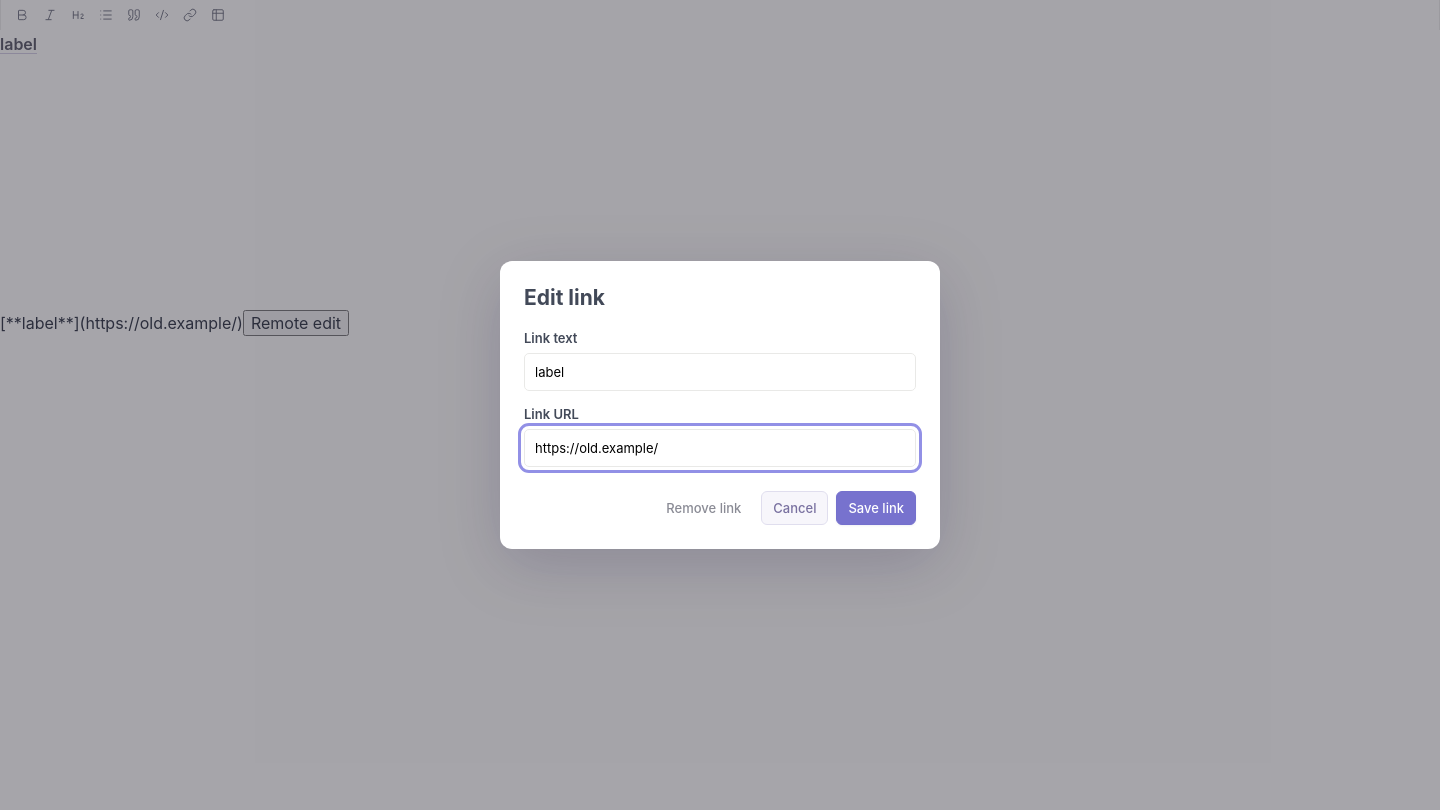
it: Visual formatting controls › edits link destinations safely, preserves formatted labels, and removes links
The image size is (1440, 810).
Earlier steps of the test are not shown.
Replace the text in the field labelled "Link URL" with "javascript:alert(1)" at (720, 448), box [524, 429, 916, 467]
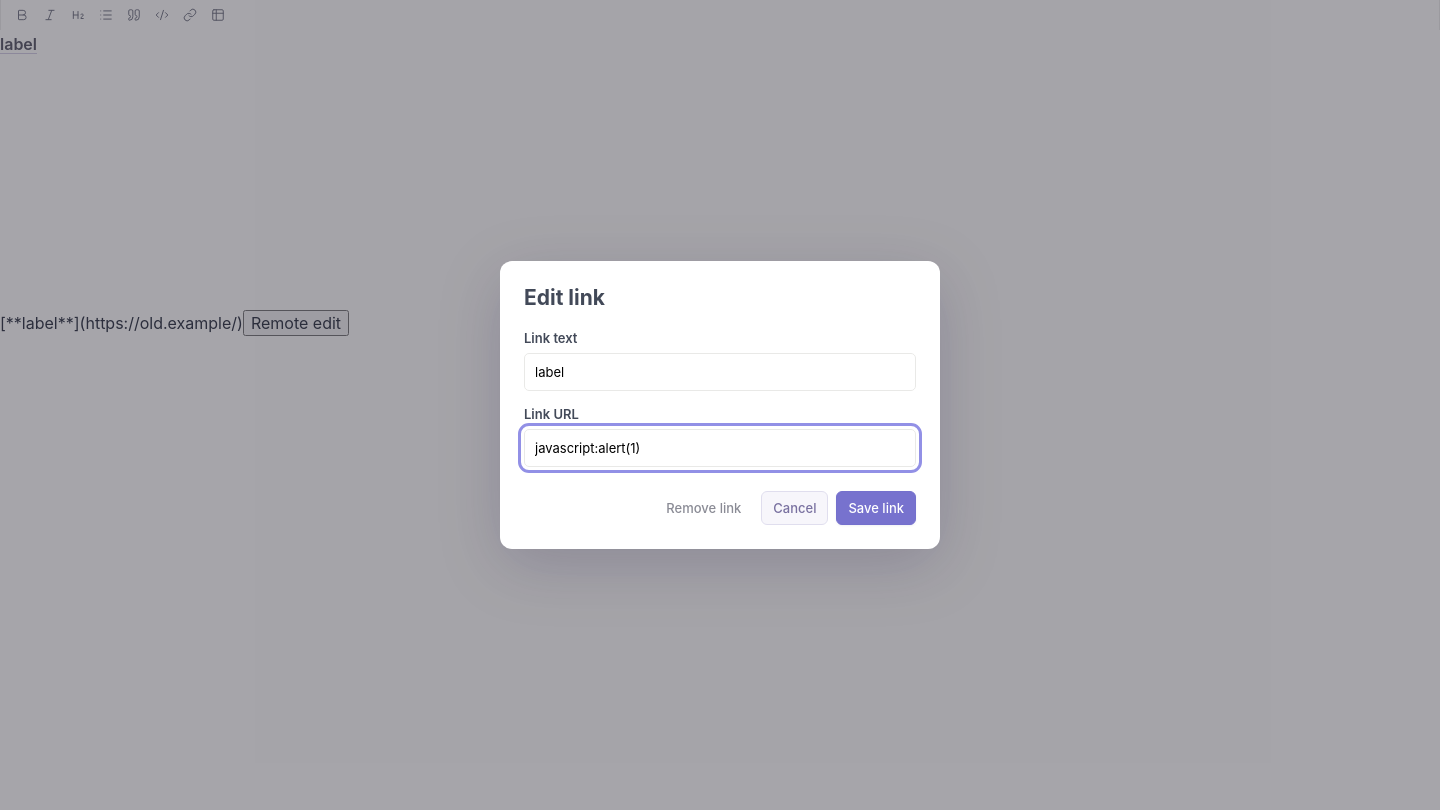
Submit the form, box [524, 330, 916, 525]
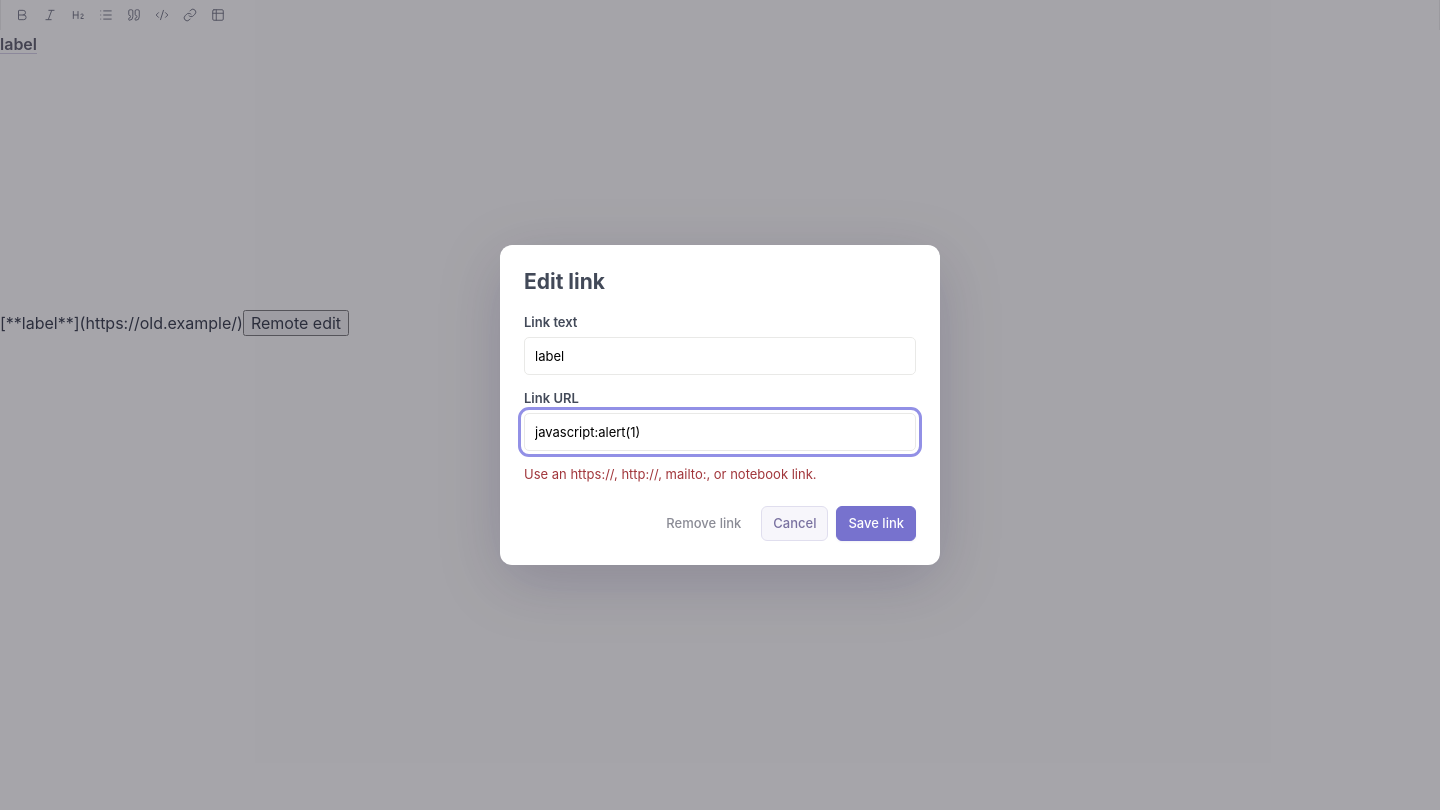
Expected: the text with test id "canonical" reads "[**label**](https://old.example/)", [0, 313, 243, 333]
Now the message shows "https://", box [524, 466, 816, 482]
Replace the text in the field labelled "Link URL" with "https://example.test/a(b)" at (720, 432), box [524, 413, 916, 451]
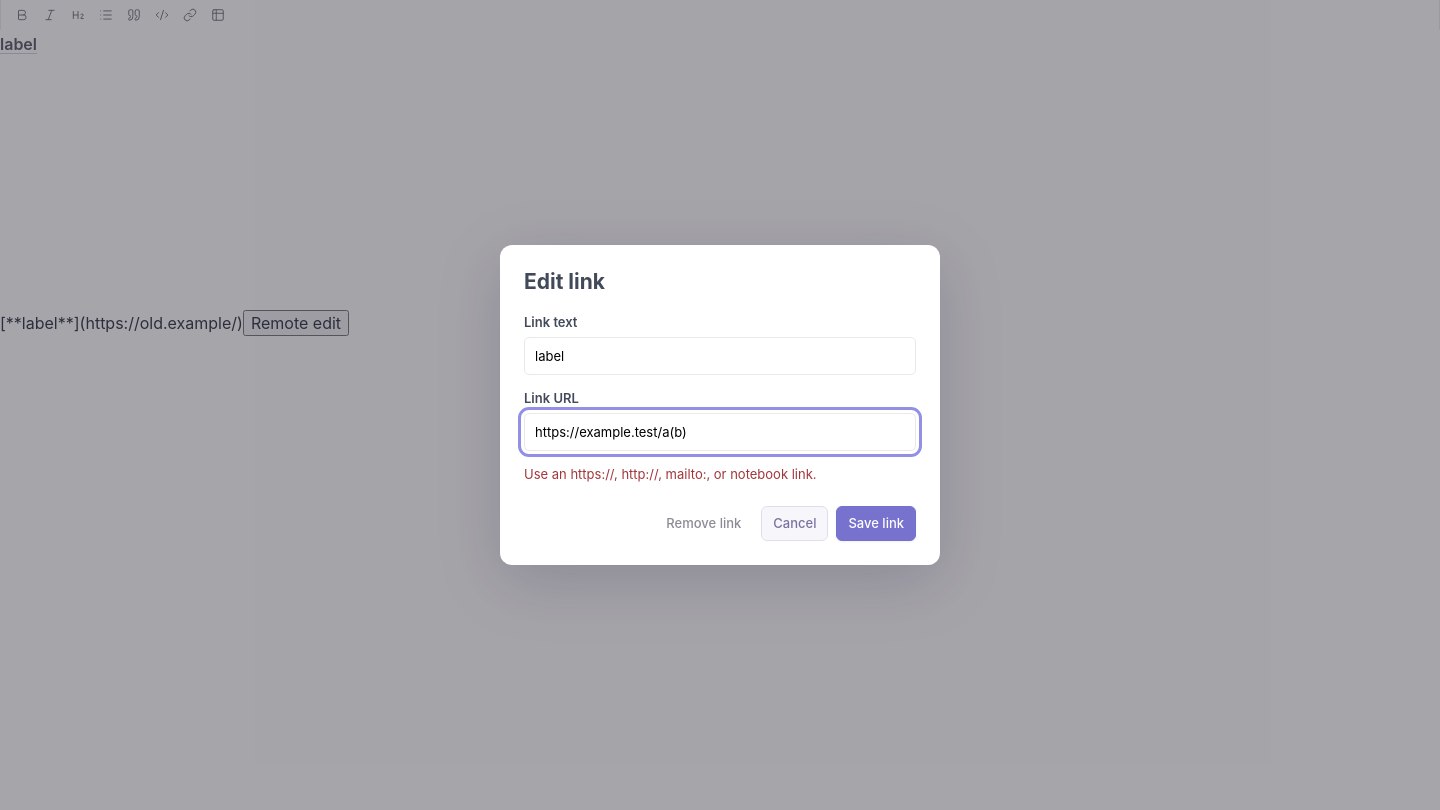
Submit the form, box [524, 314, 916, 541]
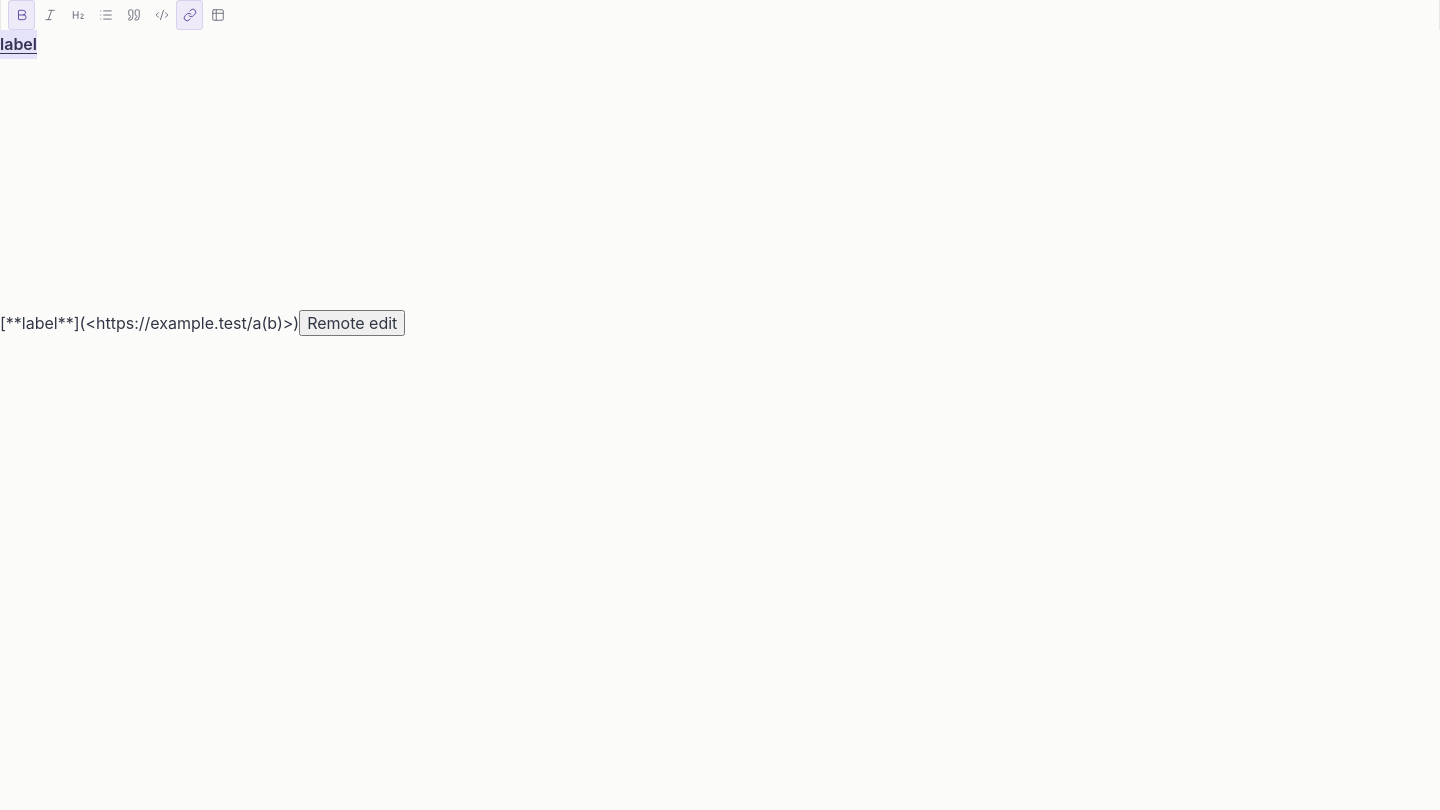
Now the link has attribute href="https://example.test/a(b)"
Click the link "label".
click(18, 44)  # box [0, 34, 37, 54]
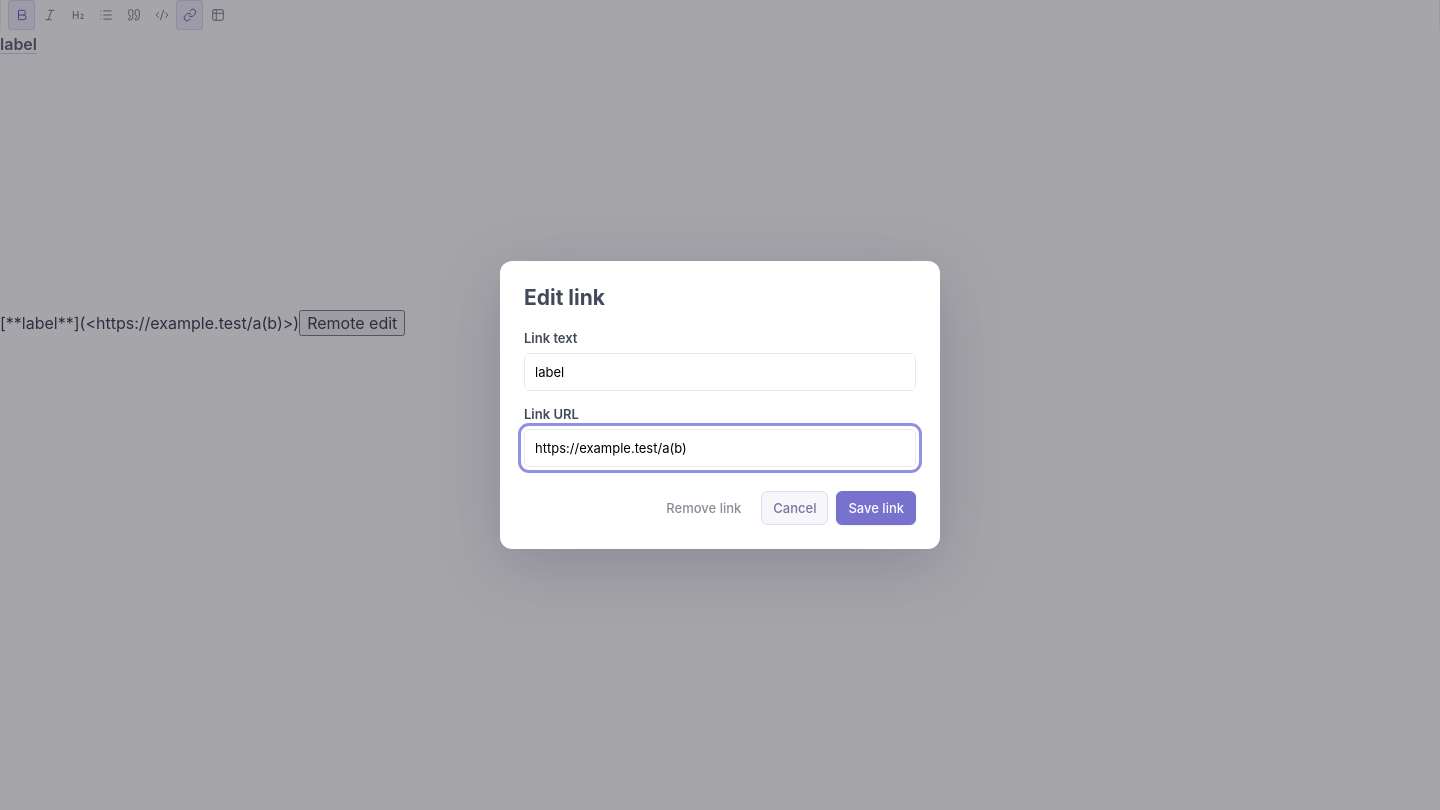
Click the button "Remove link".
click(704, 508)  # box [654, 491, 753, 525]
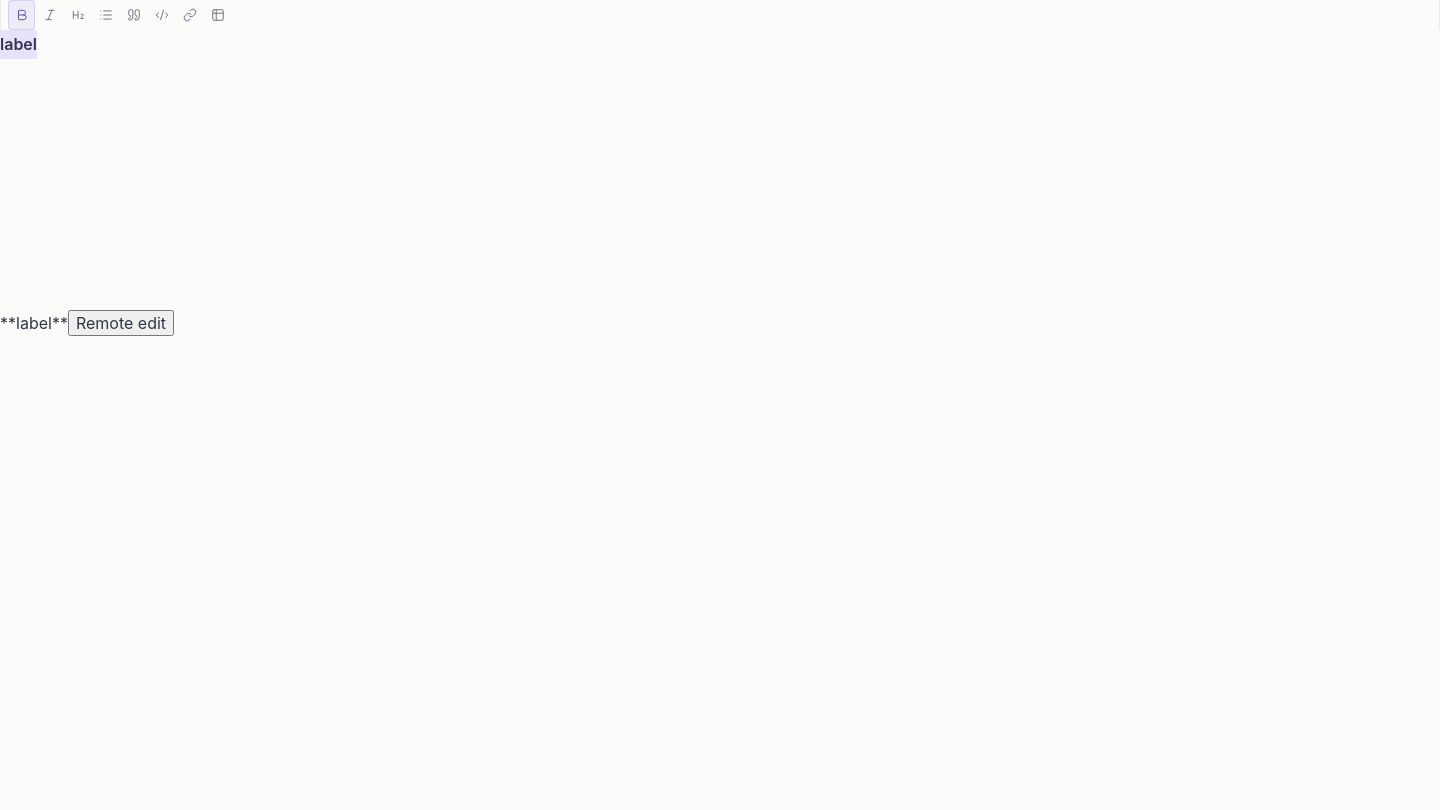
Now the text with test id "canonical" reads "**label**", box [0, 313, 68, 333]
